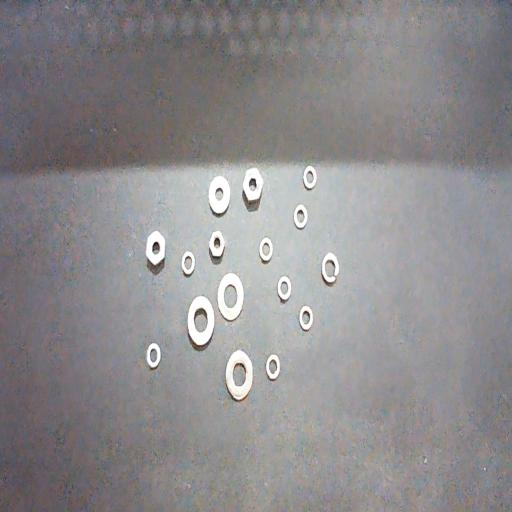nut: (146, 230, 166, 267), (243, 167, 263, 204), (209, 230, 225, 258)
washer: (226, 350, 254, 401), (188, 295, 214, 346), (217, 272, 244, 321), (208, 176, 230, 216), (322, 252, 340, 284), (146, 342, 161, 368), (258, 237, 273, 262), (266, 354, 280, 380), (277, 275, 291, 301), (299, 305, 313, 331), (181, 250, 195, 275), (294, 204, 308, 229), (303, 166, 317, 190)
